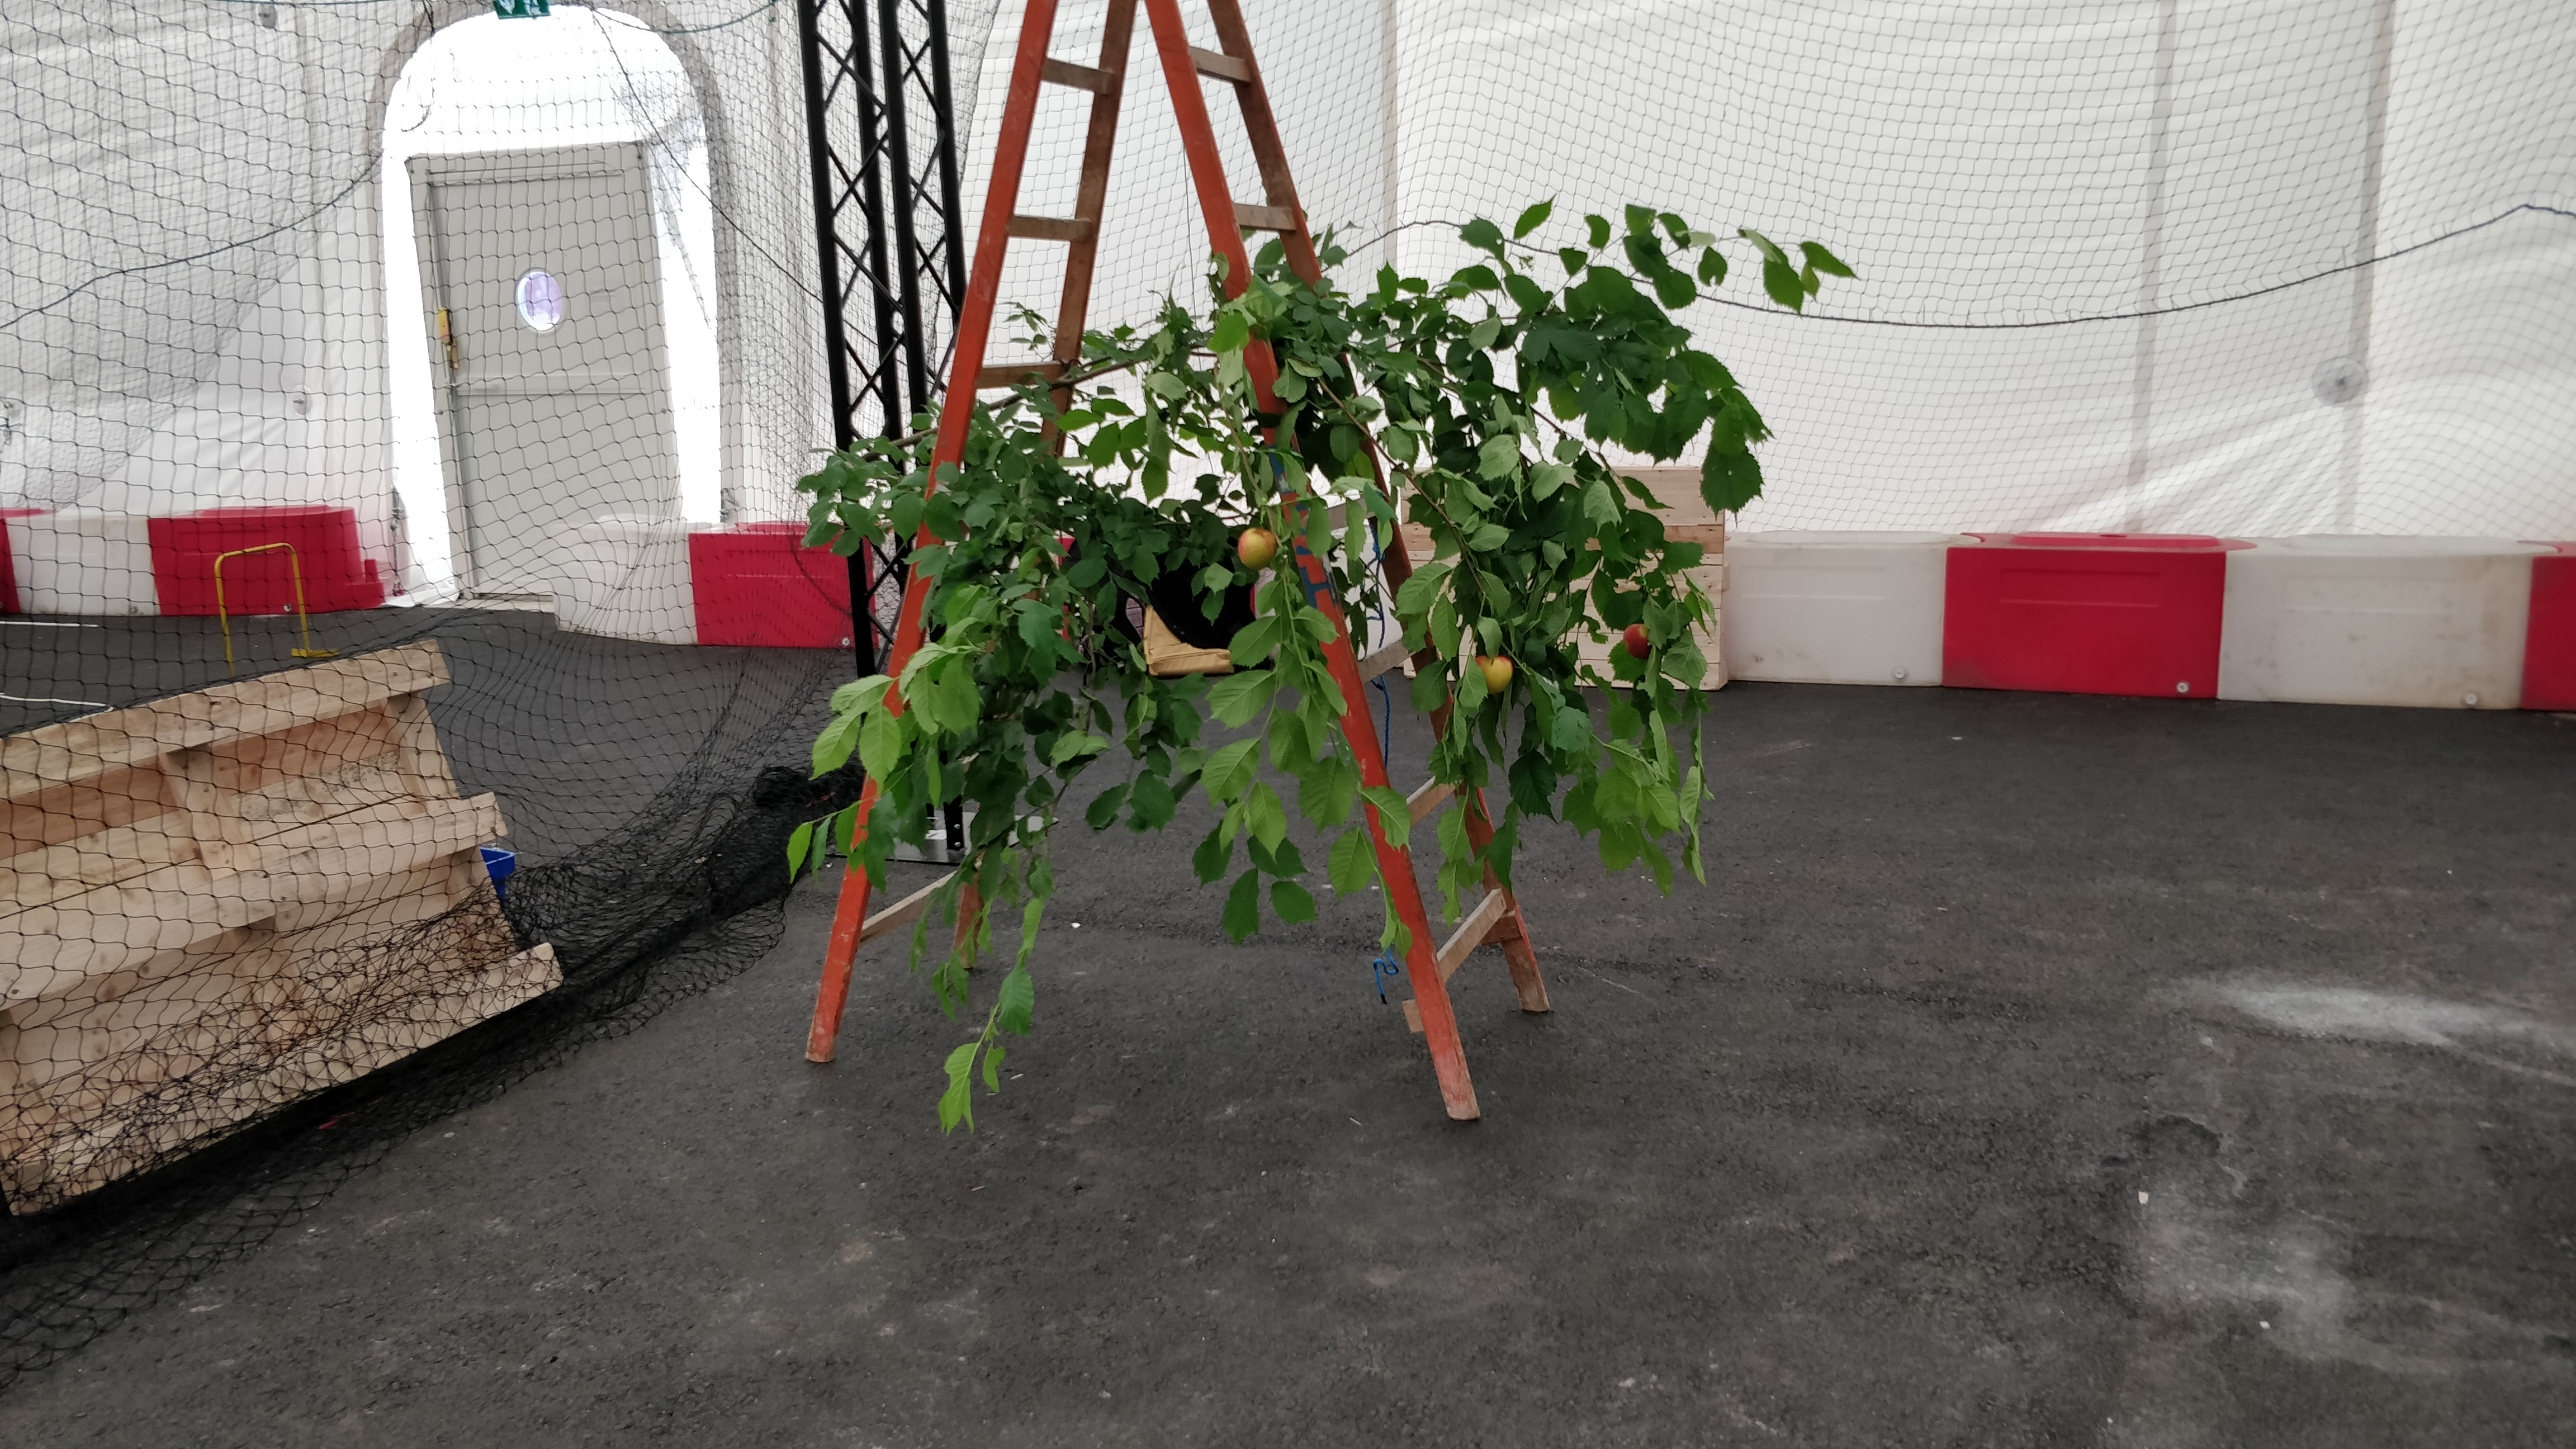apple: (1474, 655, 1513, 695), (1238, 527, 1276, 570), (1622, 625, 1651, 660)
